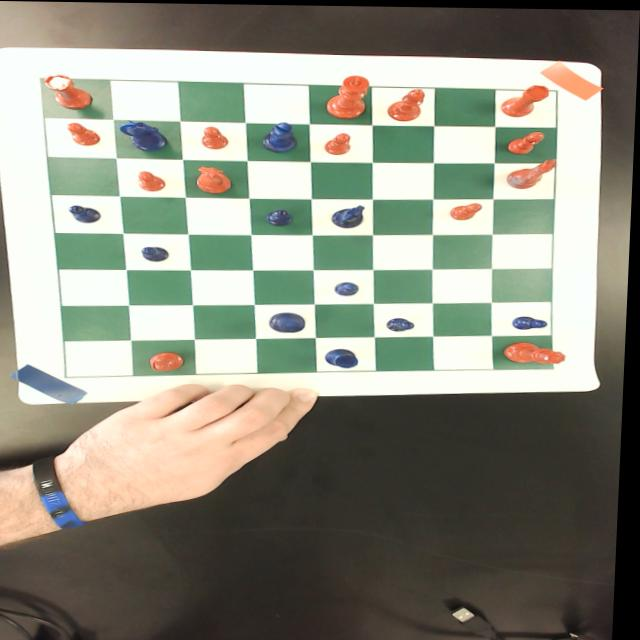B: (263, 121, 299, 151)
K: (270, 311, 311, 331)
N: (118, 119, 171, 150), (334, 202, 369, 227)
P: (70, 204, 105, 223), (515, 313, 551, 328), (268, 207, 296, 226), (143, 245, 172, 260), (335, 279, 362, 294), (390, 316, 418, 330)
R: (327, 346, 362, 367)
b: (389, 87, 427, 119), (151, 350, 188, 370)
k: (325, 73, 371, 117)
n: (508, 155, 560, 186), (195, 163, 236, 192)
p: (507, 128, 548, 152), (66, 121, 104, 145), (325, 130, 355, 155), (199, 124, 230, 148), (450, 200, 485, 219), (139, 169, 168, 191)
q: (506, 339, 571, 362)
r: (42, 73, 96, 108), (499, 81, 552, 116)
